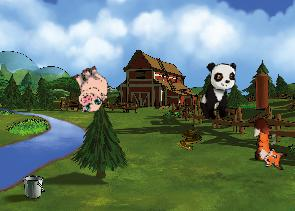fox: (252, 118, 287, 170)
panda: (198, 59, 238, 123)
pig: (64, 61, 117, 116)
